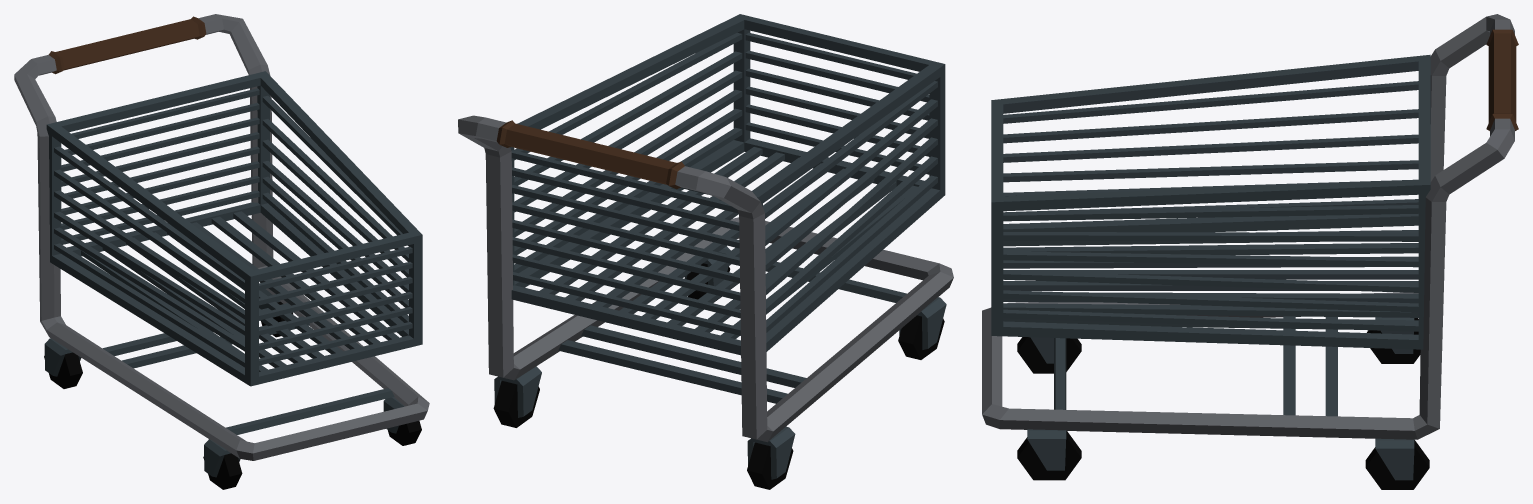
File: MarketCart.fbx
The picture shows the model from 3 angles, left to right: view 1: azimuth 30°, elevation 25°; view 2: azimuth 150°, elevation 25°; view 3: azimuth 270°, elevation 25°; orthographic projection. The views are drawn at different scales.
Visible parts, largest first — view 1: MarketCart01; view 2: MarketCart01; view 3: MarketCart01.
Boxes of the visible parts, x1,y1,x2,y2 form: MarketCart01: [14, 14, 429, 489]; MarketCart01: [458, 14, 953, 489]; MarketCart01: [982, 14, 1518, 489].
Bounding box in the file's own units: 95.72 × 112 × 155.
